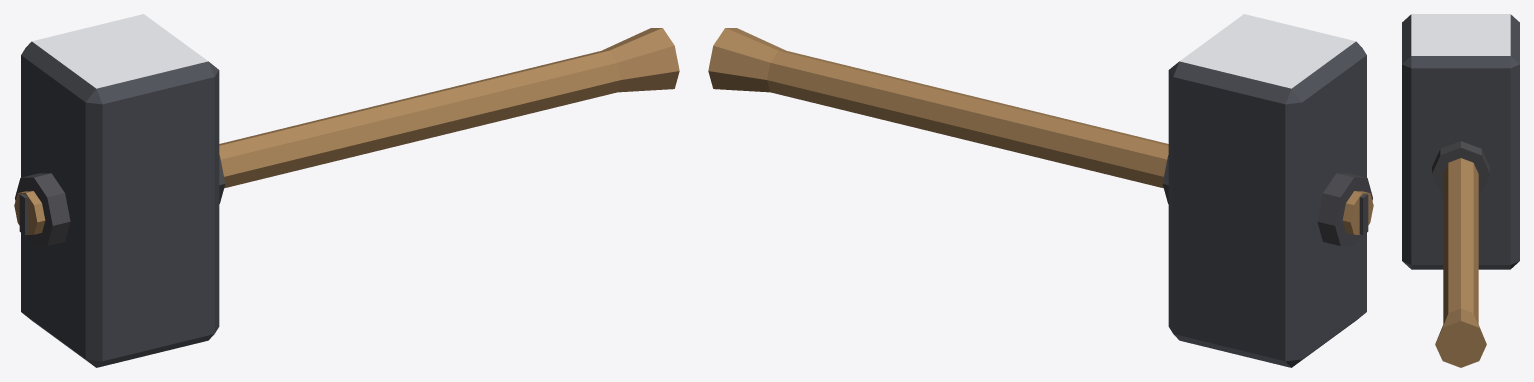
File: hammer.glb
3 renders of one model, left to right at view 1: azimuth 30°, elevation 25°; view 2: azimuth 150°, elevation 25°; view 3: azimuth 270°, elevation 25°, orthographic. The views are drawn at different scales.
Visible parts, largest first — view 1: hammer; view 2: hammer; view 3: hammer.
Boxes of the visible parts, left/top/right/bottom form: hammer: left=14, top=14, right=679, bottom=367; hammer: left=708, top=14, right=1373, bottom=367; hammer: left=1402, top=14, right=1519, bottom=367.
Size of the model in its own units: 0.72 by 0.3 by 0.15.
